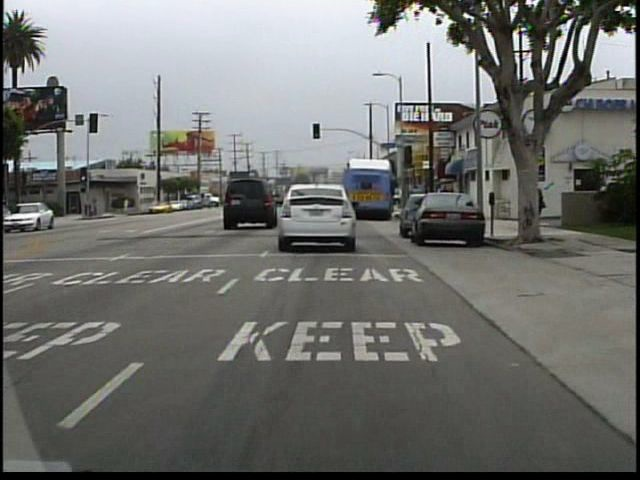person: (518, 176, 538, 230), (529, 177, 546, 232), (123, 196, 134, 216)
